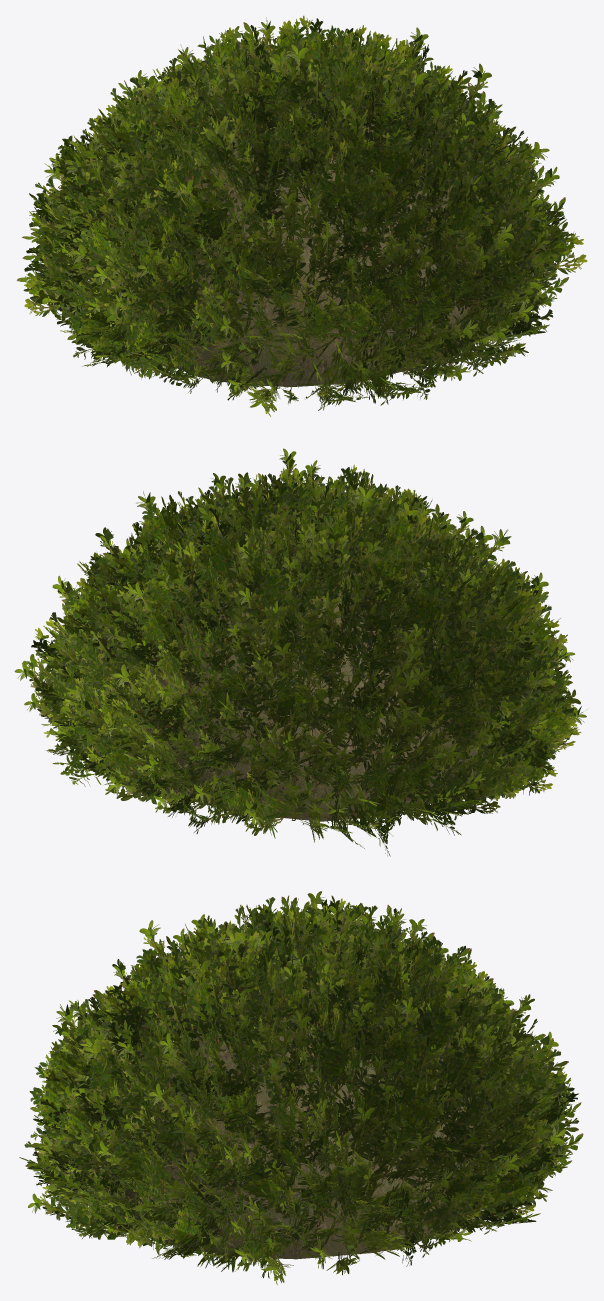
Rendered from SM_Shrub_E.fbx.
3 renders of one model, top to bottom at view 1: azimuth 30°, elevation 25°; view 2: azimuth 150°, elevation 25°; view 3: azimuth 270°, elevation 25°, orthographic. The views are drawn at different scales.
Visible parts, largest first — view 1: Shrub_E_LOD0; view 2: Shrub_E_LOD0; view 3: Shrub_E_LOD0.
Boxes of the visible parts, <box> form: Shrub_E_LOD0: <box>16,15,587,416</box>; Shrub_E_LOD0: <box>14,448,586,856</box>; Shrub_E_LOD0: <box>19,891,583,1284</box>.
Size of what is drawn, in the model's own units: 160 by 83.77 by 157.
